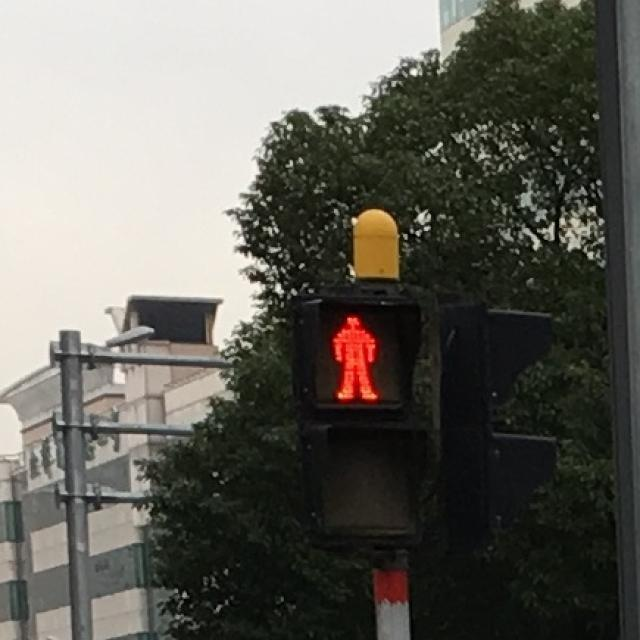red-crossing: (314, 303, 394, 405)
